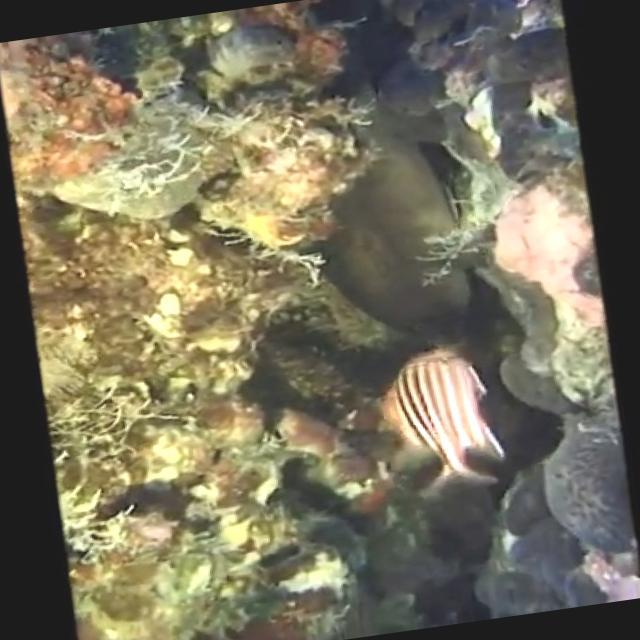Asker Baligi: (368, 334, 512, 500)
